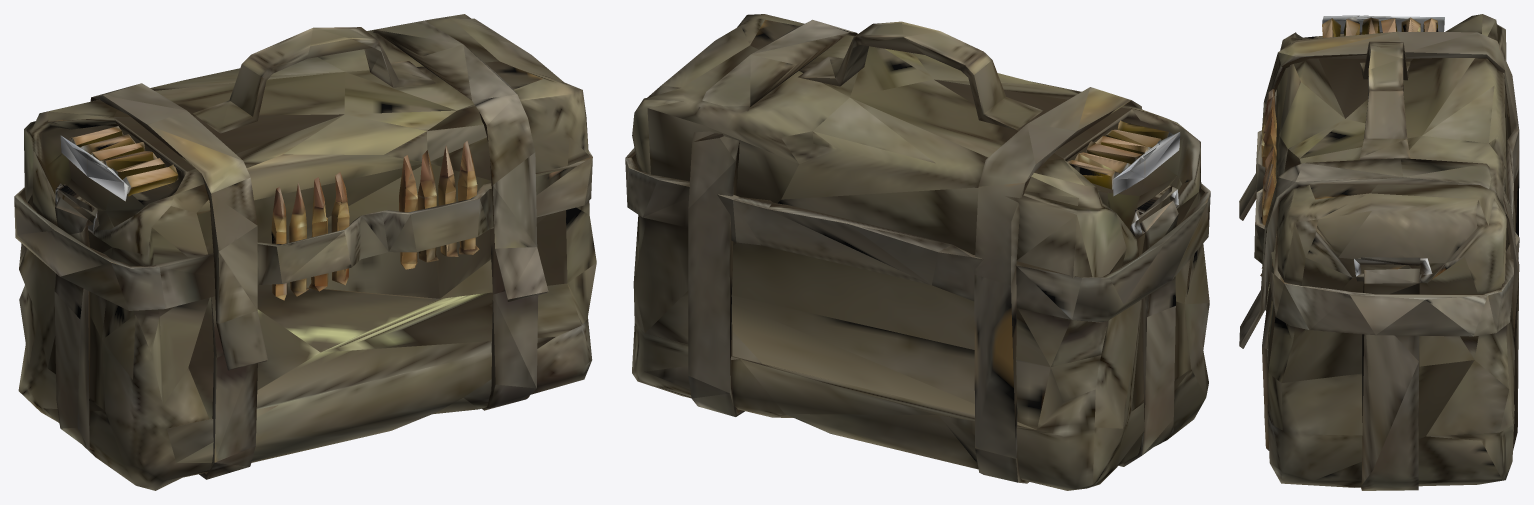
The model's file is ZR_Ammo_Rifle.fbx.
3 renders of one model, left to right at view 1: azimuth 30°, elevation 25°; view 2: azimuth 150°, elevation 25°; view 3: azimuth 270°, elevation 25°, orthographic. The views are drawn at different scales.
Parts seen in each view (by area): view 1: ZR_Ammo_Rifle; view 2: ZR_Ammo_Rifle; view 3: ZR_Ammo_Rifle.
Part boxes in pixels (bbox=[...]): ZR_Ammo_Rifle: bbox=[14, 14, 596, 490]; ZR_Ammo_Rifle: bbox=[625, 14, 1210, 490]; ZR_Ammo_Rifle: bbox=[1239, 14, 1519, 490].
Size of the model in its own units: 0.2999 by 0.2107 by 0.1566.
1 material, 1 textured.
